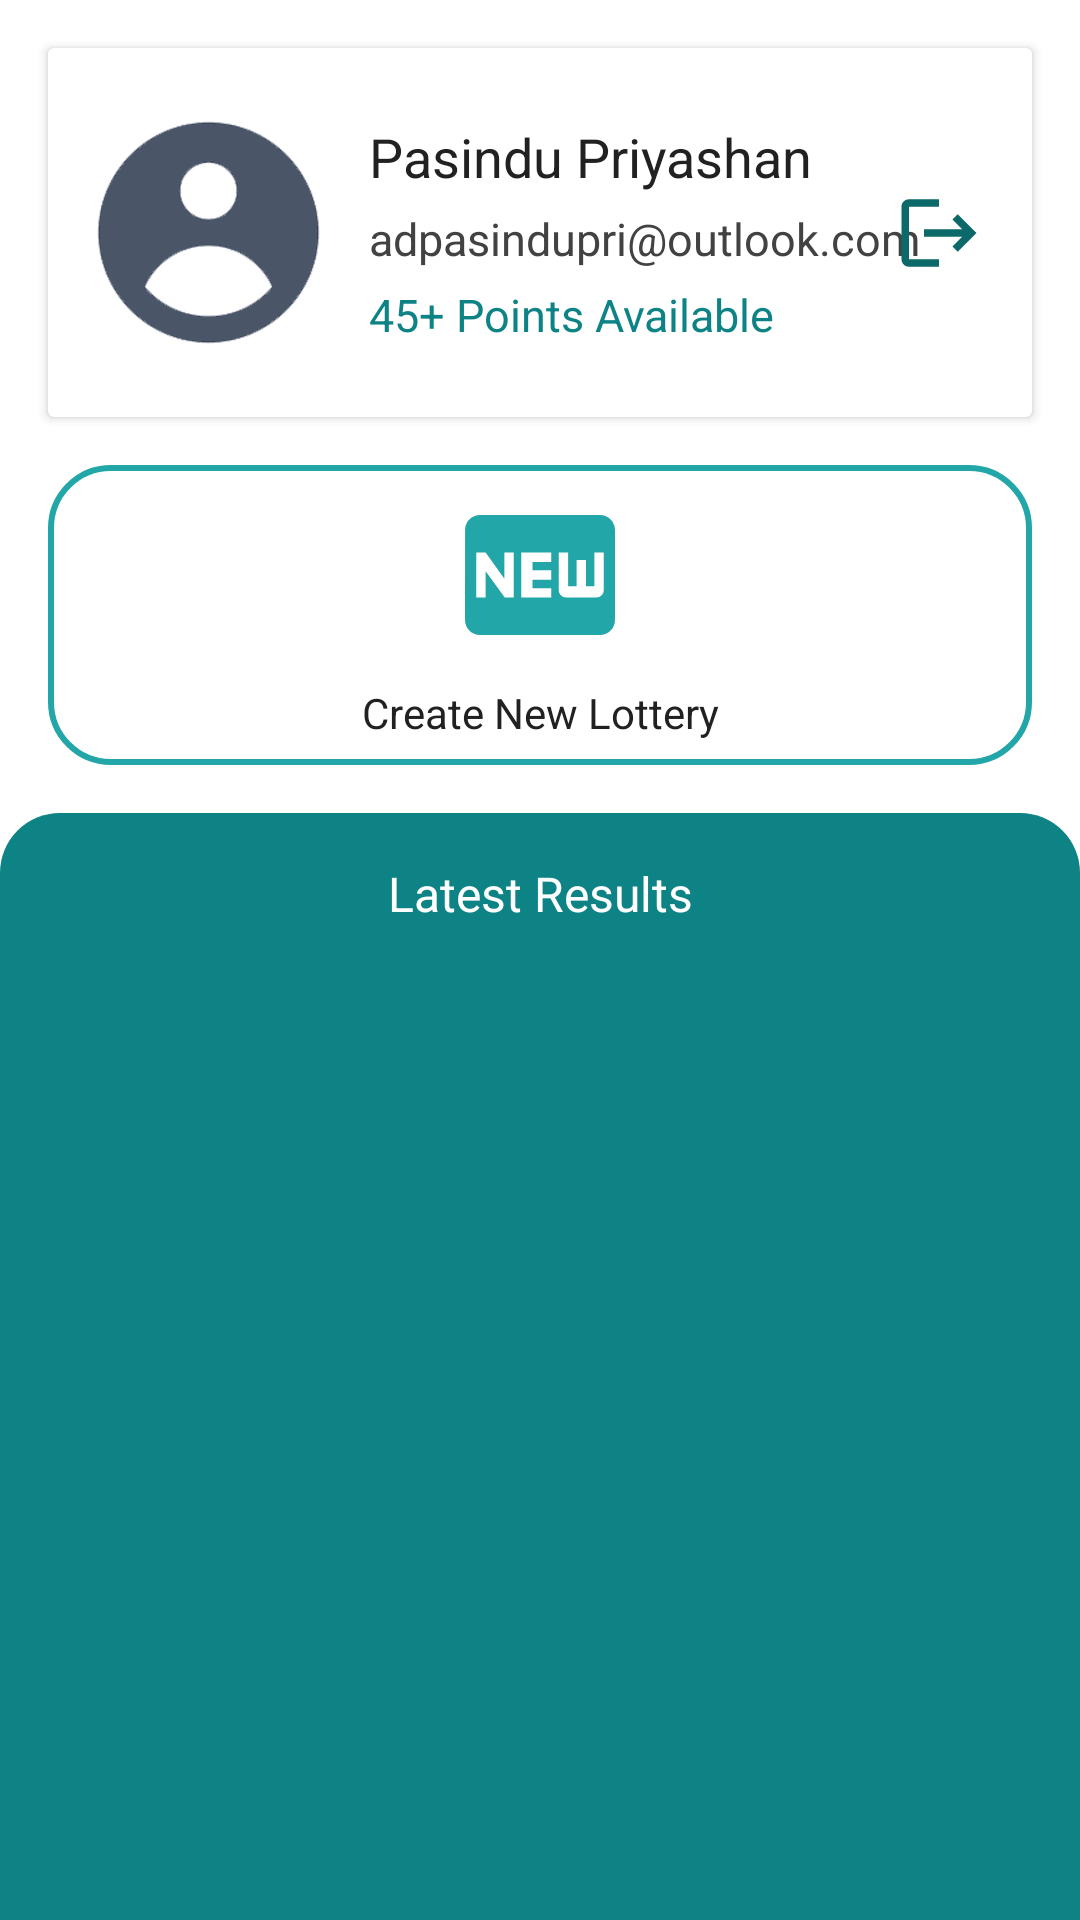

Icons on this 1080px×1920px Android screen, each with the point to tap as (x=x, y=y):
user: (x=208, y=232)
